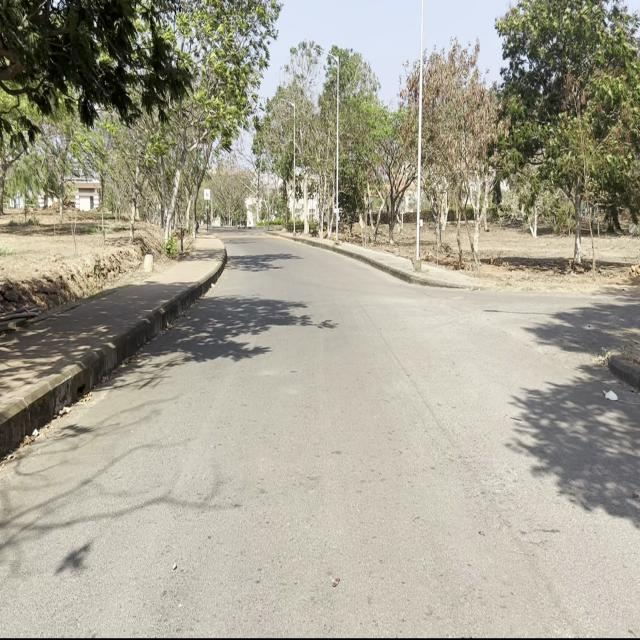Road: (4, 234, 636, 632)
